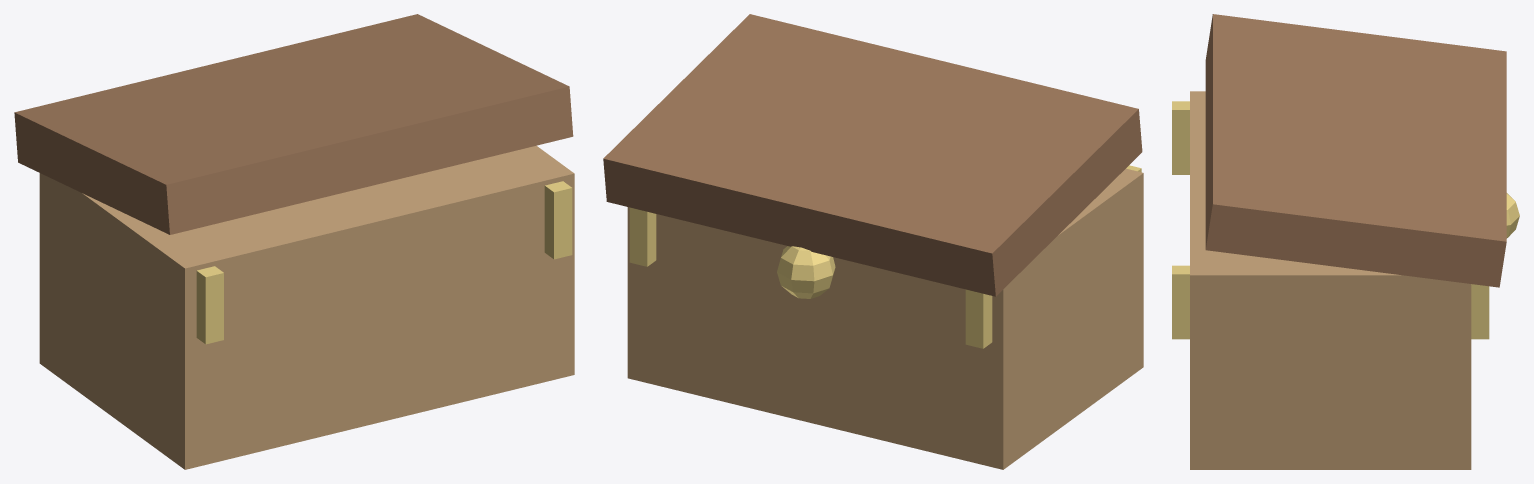
Rendered from treasure_chest.glb.
3 views of the same model, side by side, from view 1: azimuth 30°, elevation 25°; view 2: azimuth 150°, elevation 25°; view 3: azimuth 270°, elevation 25° (orthographic). The views are drawn at different scales.
Parts seen in each view (by area): view 1: TreasureChest; view 2: TreasureChest; view 3: TreasureChest.
Part boxes in pixels (x1=…): TreasureChest: x1=14, y1=14, x2=574, y2=469; TreasureChest: x1=603, y1=14, x2=1143, y2=469; TreasureChest: x1=1172, y1=14, x2=1519, y2=469.
Size of the model in its own units: 0.88 by 0.5799 by 0.68.
